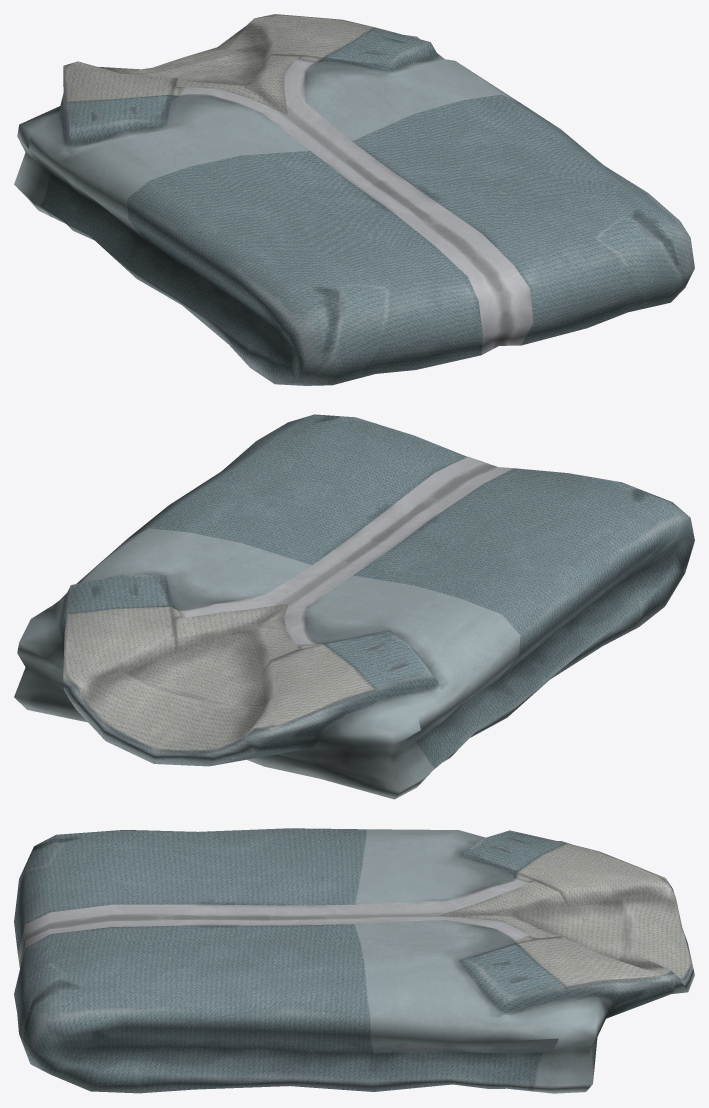
File: cloth_folded_buruzon01a.fbx
3 renders of one model, top to bottom at view 1: azimuth 30°, elevation 25°; view 2: azimuth 150°, elevation 25°; view 3: azimuth 270°, elevation 25°, orthographic. The views are drawn at different scales.
Parts seen in each view (by area): view 1: cloth_folded_buruzon01a; view 2: cloth_folded_buruzon01a; view 3: cloth_folded_buruzon01a.
Part boxes in pixels (box(x1,y1,x2,y2)): cloth_folded_buruzon01a: box(14, 14, 694, 385); cloth_folded_buruzon01a: box(14, 414, 694, 799); cloth_folded_buruzon01a: box(14, 828, 694, 1093).
Size of the model in its own units: 28.87 by 7.69 by 44.94.
